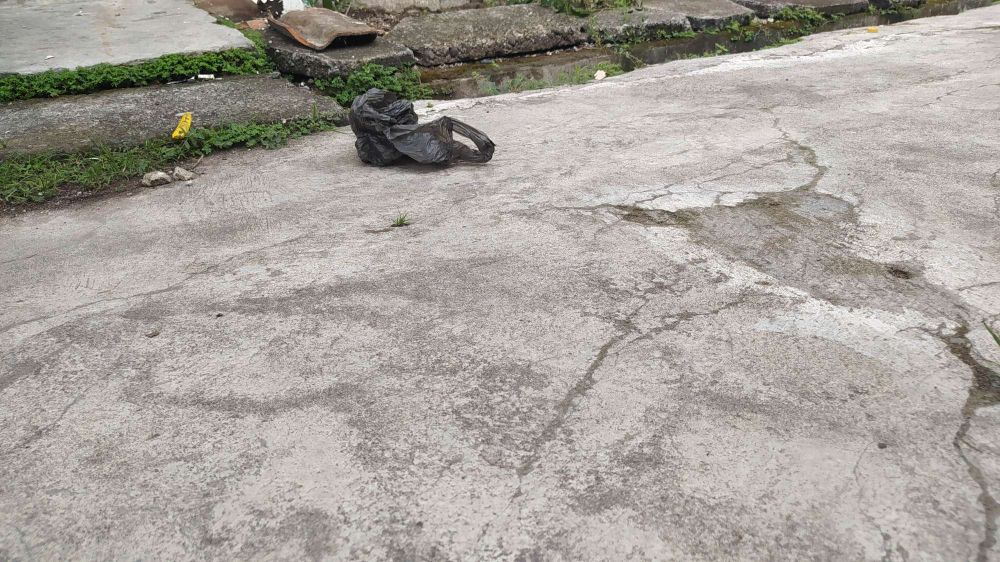plastik: (344, 80, 490, 179)
